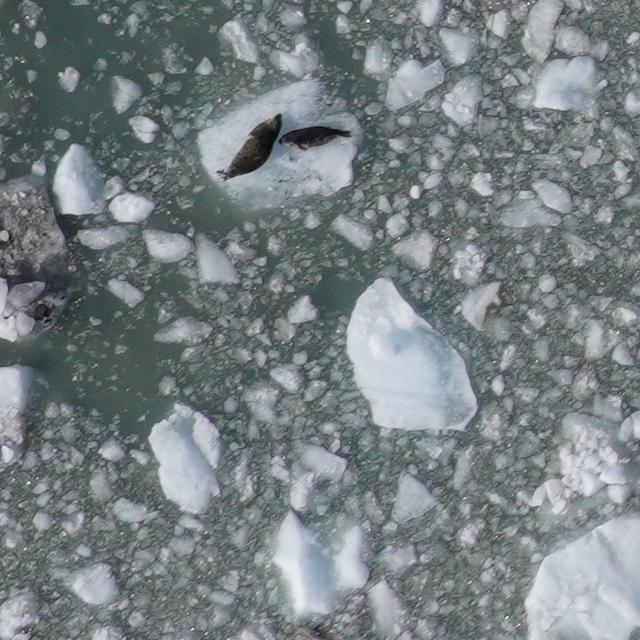seal: (214, 103, 299, 195), (276, 117, 354, 156)
